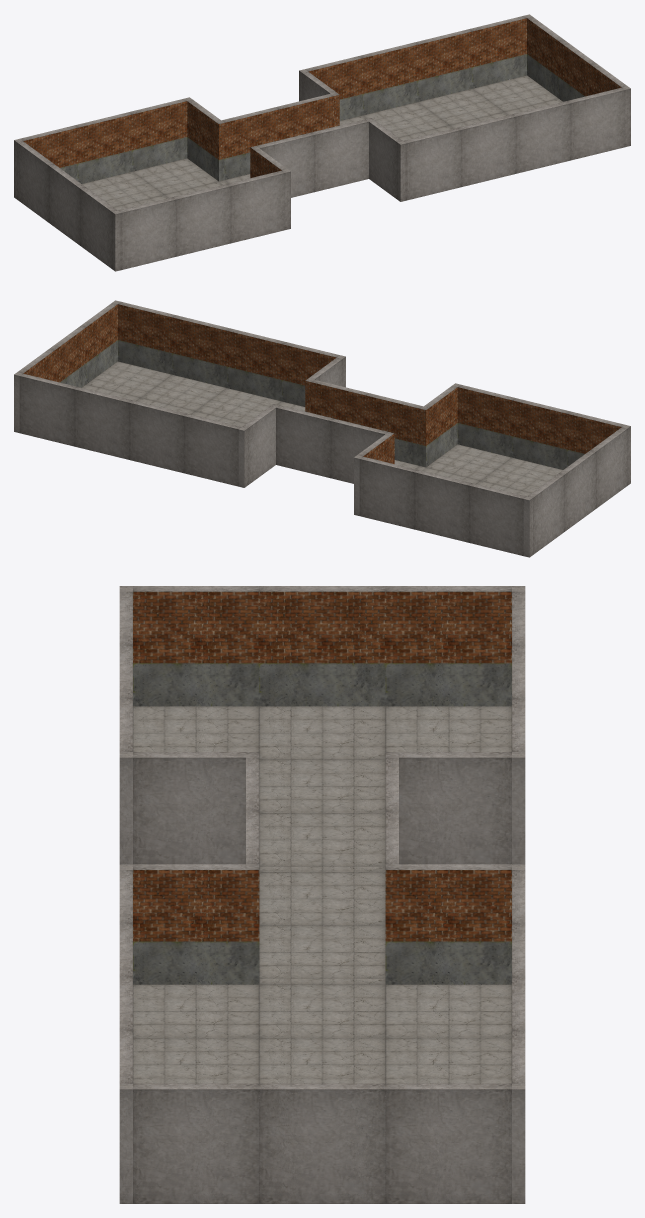
Rendered from mapInsideB2.fbx.
The picture shows the model from 3 angles, top to bottom: view 1: azimuth 30°, elevation 25°; view 2: azimuth 150°, elevation 25°; view 3: azimuth 270°, elevation 25°; orthographic projection. The views are drawn at different scales.
Visible parts, largest first — view 1: Wall8, Wall6, Wall12, Wall2, Wall1, Floor3, Wall10, Wall4, Wall7, Floor1, Wall3, Wall9 (+2 smaller); view 2: Wall6, Wall8, Wall2, Wall12, Wall1, Floor3, Wall4, Wall10, Wall7, Floor1, Wall11, Wall5 (+2 smaller); view 3: Wall1, Wall7, Floor3, Floor1, Wall9, Wall5, Floor2, Wall11, Wall3, Wall6, Wall8, Wall12 (+3 smaller).
Part boxes in pixels (bbox=[...]): Wall8: bbox=[397, 86, 630, 201]; Wall6: bbox=[299, 14, 532, 120]; Wall12: bbox=[112, 169, 290, 271]; Wall2: bbox=[14, 97, 192, 199]; Wall1: bbox=[17, 141, 117, 268]; Floor3: bbox=[339, 75, 562, 140]; Wall10: bbox=[256, 119, 368, 197]; Wall4: bbox=[221, 93, 333, 179]; Wall7: bbox=[527, 17, 627, 101]; Floor1: bbox=[82, 158, 222, 210]; Wall3: bbox=[187, 99, 224, 181]; Wall9: bbox=[366, 118, 402, 199]; Wall6: bbox=[14, 372, 247, 487]; Wall8: bbox=[112, 300, 345, 406]; Wall2: bbox=[354, 455, 532, 557]; Wall12: bbox=[452, 383, 630, 485]; Wall1: bbox=[527, 427, 627, 554]; Floor3: bbox=[82, 361, 305, 426]; Wall4: bbox=[276, 405, 388, 483]; Wall10: bbox=[311, 379, 423, 465]; Wall7: bbox=[17, 303, 117, 387]; Floor1: bbox=[422, 444, 562, 496]; Wall11: bbox=[420, 385, 457, 467]; Wall5: bbox=[242, 404, 278, 485]; Wall1: bbox=[133, 586, 511, 706]; Wall7: bbox=[133, 1083, 511, 1203]; Floor3: bbox=[133, 984, 511, 1083]; Floor1: bbox=[133, 706, 511, 866]; Wall9: bbox=[133, 864, 259, 984]; Wall5: bbox=[385, 864, 511, 984]; Floor2: bbox=[259, 866, 385, 984]; Wall11: bbox=[133, 752, 259, 864]; Wall3: bbox=[385, 752, 511, 864]; Wall6: bbox=[512, 864, 525, 1203]; Wall8: bbox=[119, 864, 132, 1203]; Wall12: bbox=[119, 586, 132, 864].
Size of the model in its own units: 26.85 by 2.85 by 9.15.
